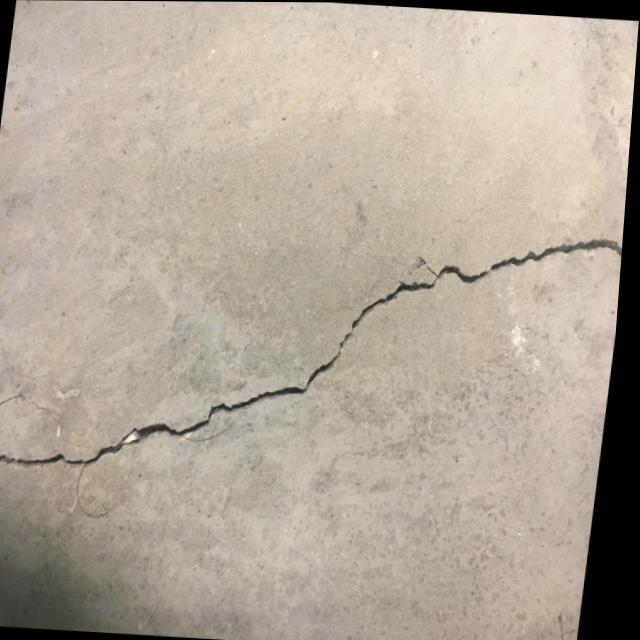Crack: (92, 372, 316, 488), (413, 215, 628, 314), (308, 272, 421, 406), (0, 448, 93, 487), (0, 388, 31, 450)
